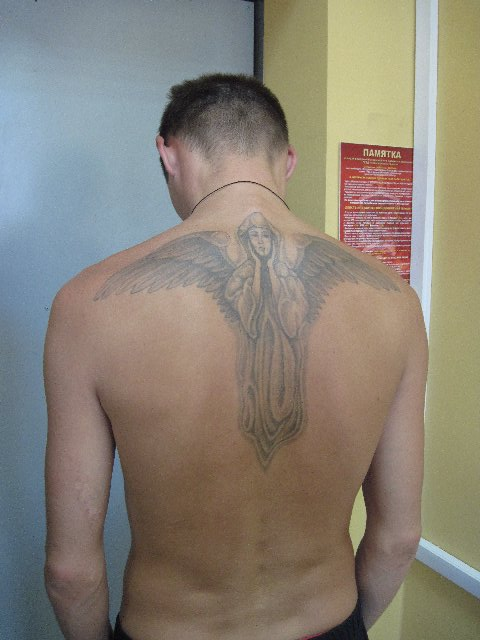tatu1_angel: (134, 222, 348, 460)
